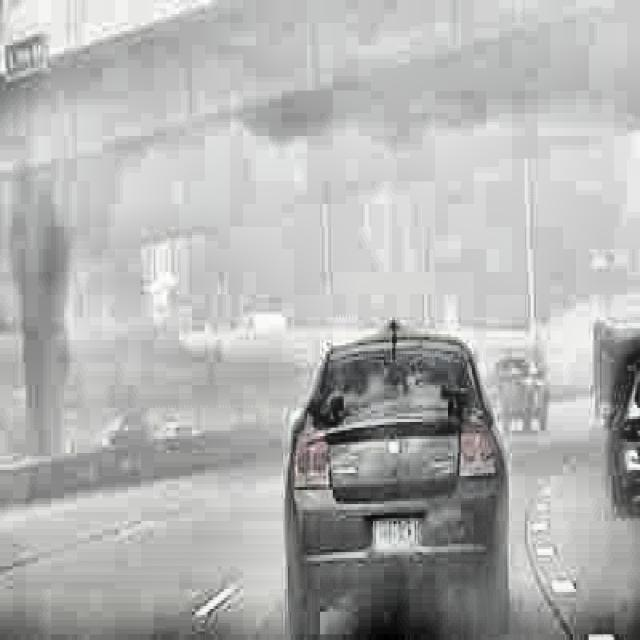license_plate: (375, 513, 420, 556)
